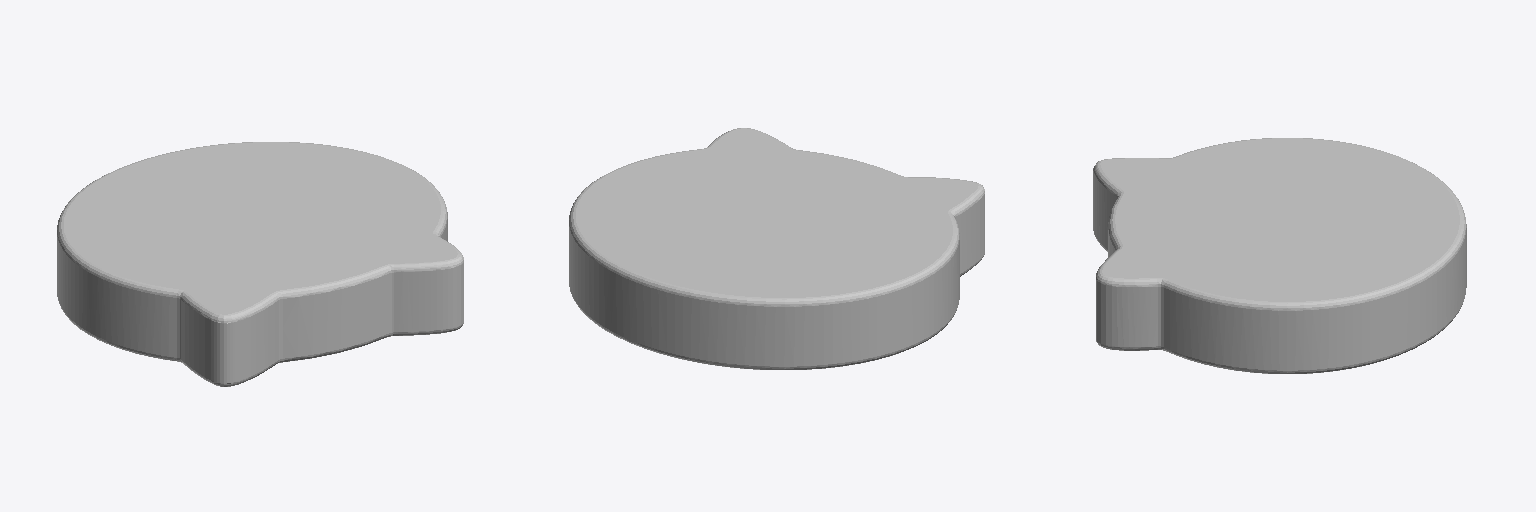
File: qizi2.obj
3 renders of one model, left to right at view 1: azimuth 30°, elevation 25°; view 2: azimuth 150°, elevation 25°; view 3: azimuth 270°, elevation 25°, orthographic.
Parts seen in each view (by area): view 1: object_1; view 2: object_1; view 3: object_1.
Boxes of the visible parts, box(x1,y1,x2,y2) form: object_1: box(57, 142, 463, 386); object_1: box(569, 128, 984, 369); object_1: box(1093, 138, 1466, 373).
Bounding box in the file's own units: 6.08 × 1.2 × 5.65.